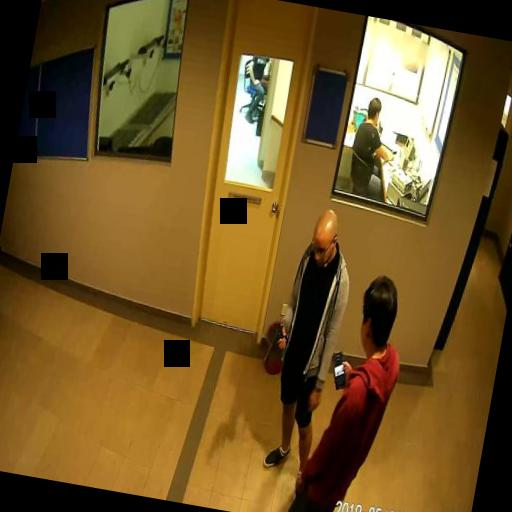Handgun: (261, 322, 288, 364)
